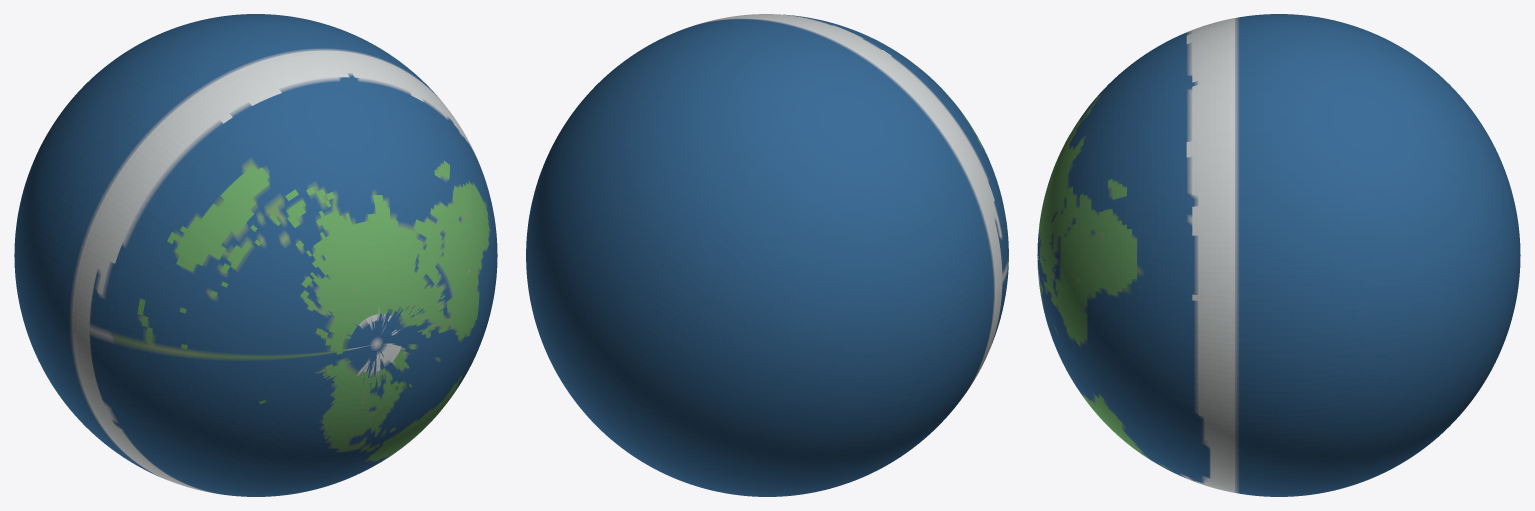
The model's file is ProjectedEarth_PolarCluster_Model.glb.
The picture shows the model from 3 angles, left to right: view 1: azimuth 30°, elevation 25°; view 2: azimuth 150°, elevation 25°; view 3: azimuth 270°, elevation 25°; orthographic projection.
Visible parts, largest first — view 1: textured_surface_vertex_color, raised_land; view 2: textured_surface_vertex_color, raised_land; view 3: textured_surface_vertex_color, raised_land.
Part boxes in pixels (x1,y1,x2,y2): textured_surface_vertex_color: (14, 14, 497, 496); raised_land: (72, 50, 488, 493); textured_surface_vertex_color: (526, 14, 1008, 496); raised_land: (696, 14, 1007, 393); textured_surface_vertex_color: (1037, 14, 1520, 496); raised_land: (1037, 18, 1234, 492).
Size of the model in its own units: 292 by 292 by 292.
